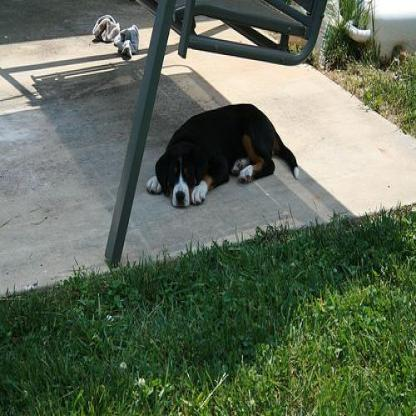Greater_Swiss_Mountain_dog: (145, 102, 298, 208)
